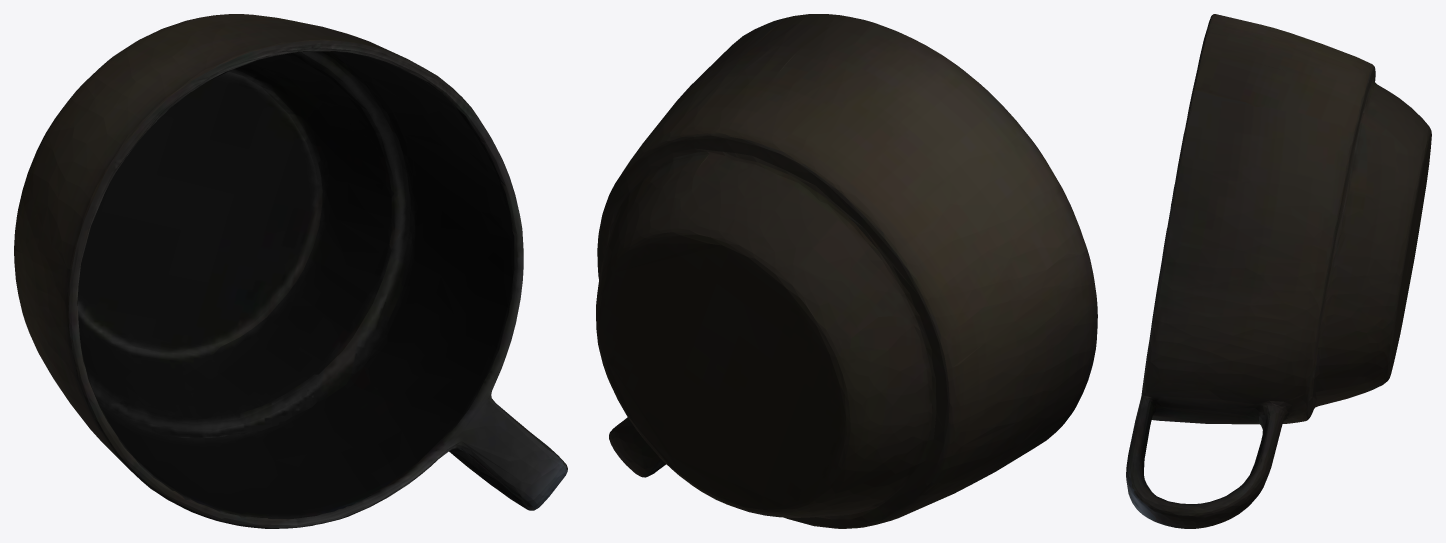
Rendered from mug5.glb.
3 views of the same model, side by side, from view 1: azimuth 30°, elevation 25°; view 2: azimuth 150°, elevation 25°; view 3: azimuth 270°, elevation 25° (orthographic). The views are drawn at different scales.
Visible parts, largest first — view 1: geometry_0; view 2: geometry_0; view 3: geometry_0.
Part boxes in pixels (box(x1,y1,x2,y2)): geometry_0: box(14, 14, 567, 528); geometry_0: box(596, 14, 1097, 528); geometry_0: box(1126, 14, 1431, 528).
Size of the model in its own units: 0.0921 by 0.0934 by 0.0636.
1 material, 1 textured.
